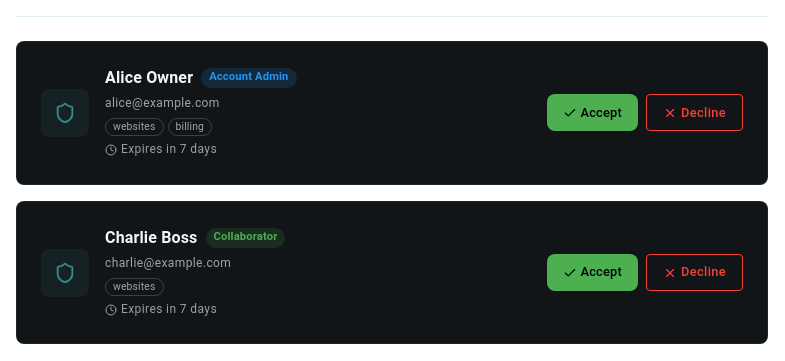
Test: AccountInvitesPage › prevents double-click on accept button (loading state)
Click the button with test id "accept-btn-1". click: (592, 113)
box: [546,94,638,131]
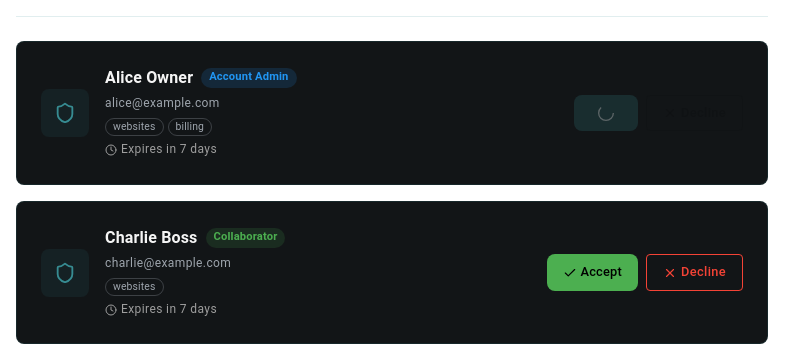
Check: the button with test id "accept-btn-1" is disabled, box [574,95,638,131]
